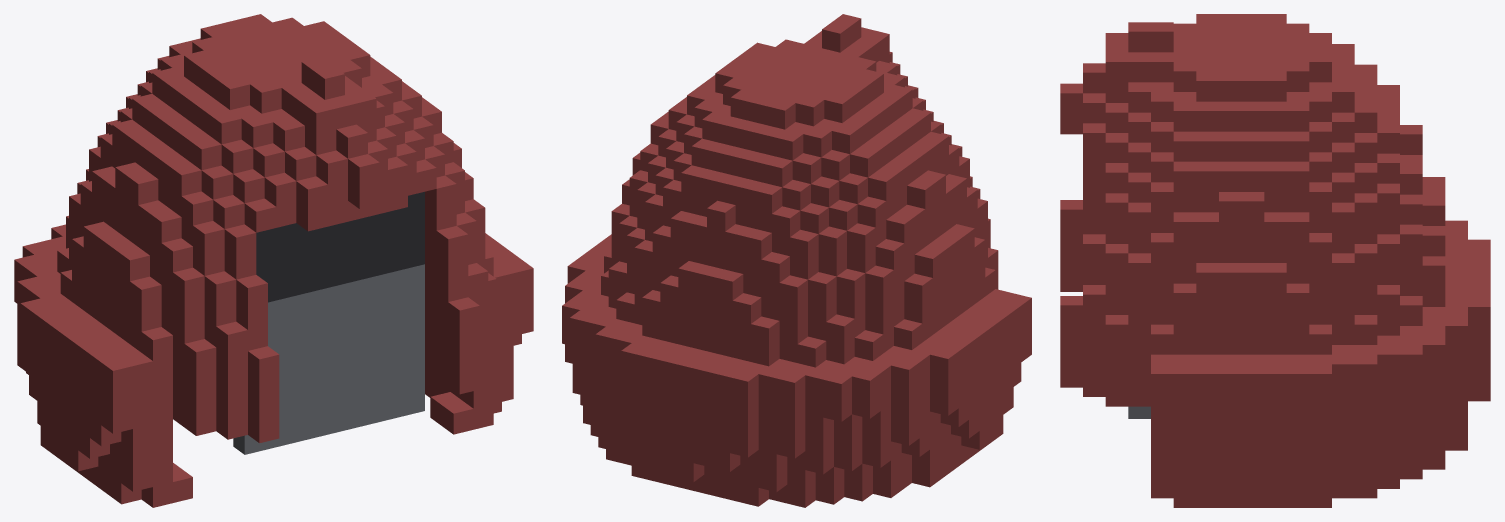
Rendered from leather_rare_helmet_lod1.glb.
The picture shows the model from 3 angles, left to right: view 1: azimuth 30°, elevation 25°; view 2: azimuth 150°, elevation 25°; view 3: azimuth 270°, elevation 25°; orthographic projection. The views are drawn at different scales.
Visible parts, largest first — view 1: leather_rare_helmet_lod1; view 2: leather_rare_helmet_lod1; view 3: leather_rare_helmet_lod1.
Part boxes in pixels (x1,y1,x2,y2): leather_rare_helmet_lod1: (14, 14, 533, 507); leather_rare_helmet_lod1: (562, 14, 1031, 507); leather_rare_helmet_lod1: (1060, 14, 1490, 507).
Size of the model in its own units: 0.504 by 0.456 by 0.456.
